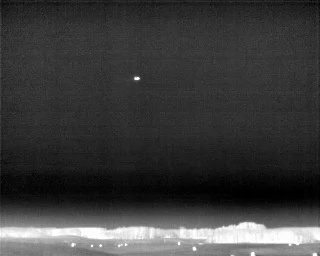AIRPLANE: (132, 74, 142, 83)
